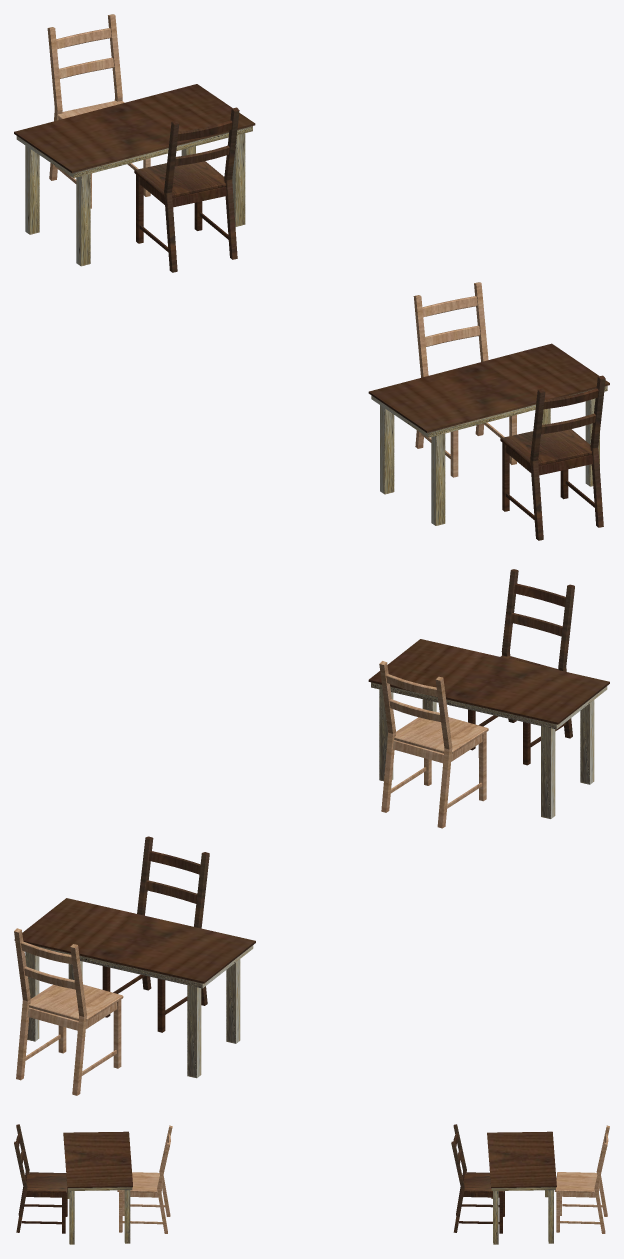
File: mesa_sillas_ext.obj
3 renders of one model, top to bottom at view 1: azimuth 30°, elevation 25°; view 2: azimuth 150°, elevation 25°; view 3: azimuth 270°, elevation 25°, orthographic. The views are drawn at different scales.
Visible parts, largest first — view 1: mesa_sillas_ext; view 2: mesa_sillas_ext; view 3: mesa_sillas_ext.
Boxes of the visible parts, left/top/right/bottom form: mesa_sillas_ext: left=14, top=14, right=609, bottom=540; mesa_sillas_ext: left=14, top=569, right=609, bottom=1095; mesa_sillas_ext: left=14, top=1124, right=609, bottom=1244.
Bounding box in the file's own units: 9.93 × 7.55 × 45.28.
4 materials, 4 textured.
